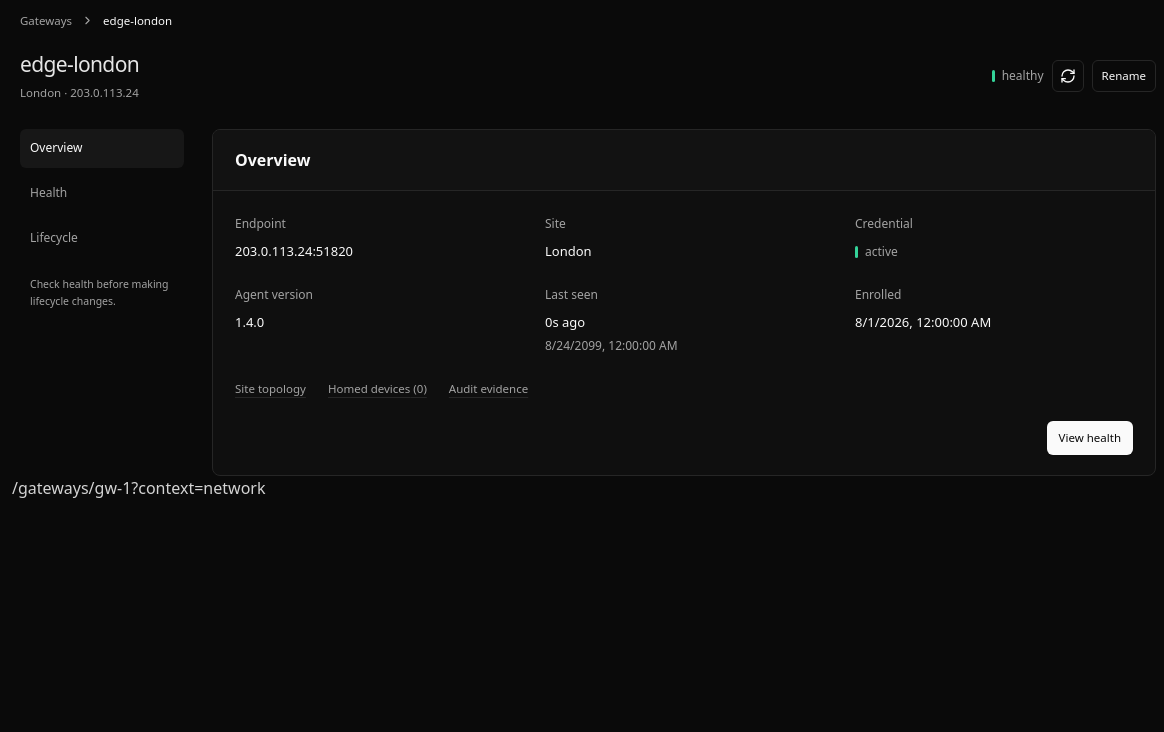
S20 Gateway detail lifecycle › keeps the gateway context while section navigation stays read-only
Expected: the heading "edge-london" is shown, [20,51,139,79]
Click the button "View health".
click(1090, 438)  # box [1047,421,1133,455]
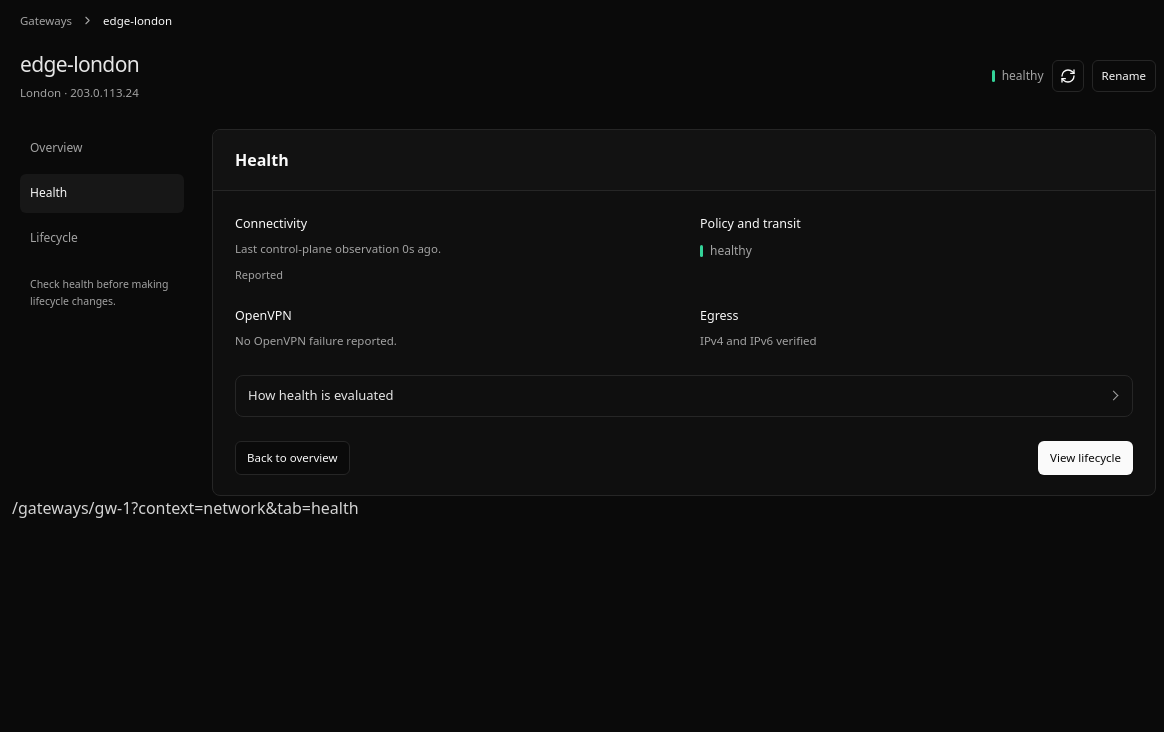
Expected: the text named "location" shows "context=network", [131,497,359,519]
Expected: the heading "Health" is shown, [235,148,289,172]
Expected: the text named "location" shows "tab=health", [131,497,359,519]
Click the button "View lifecycle".
click(1086, 458)  # box [1038,441,1133,475]
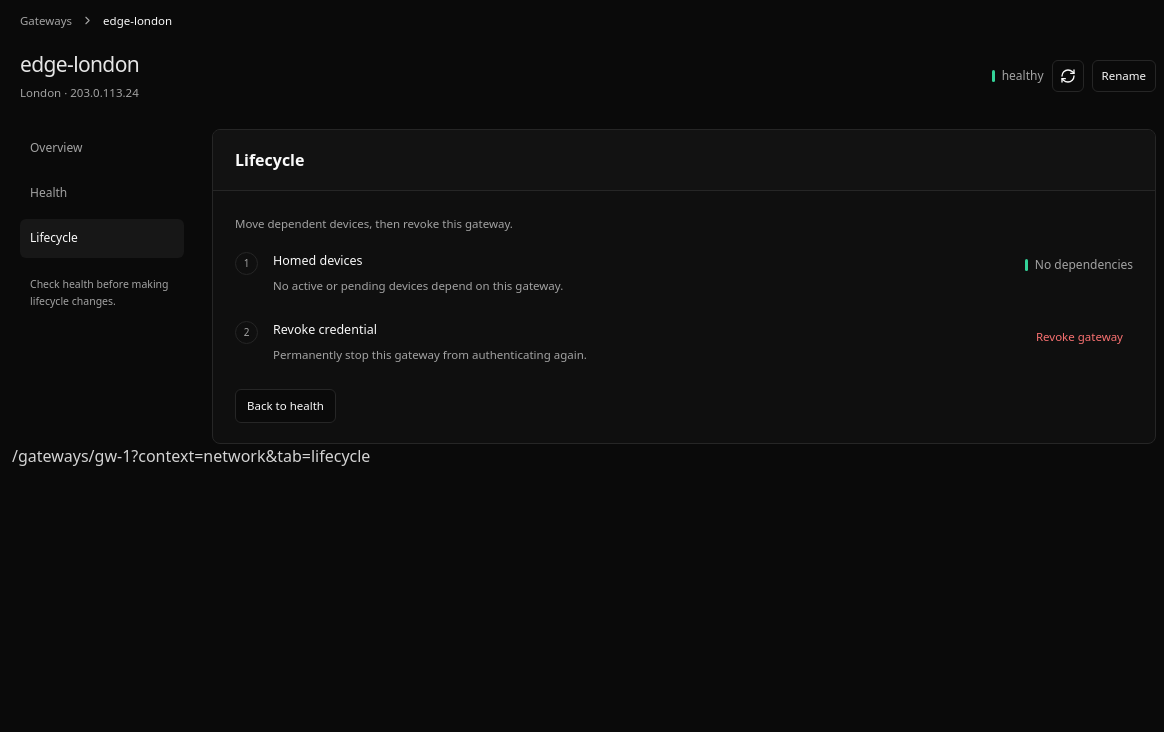
Expected: the heading "Lifecycle" is shown, [235,148,304,172]
Expected: the text named "location" shows "tab=lifecycle", [131,445,370,467]
Click the button "Back to health".
click(286, 406)  # box [235,389,336,423]
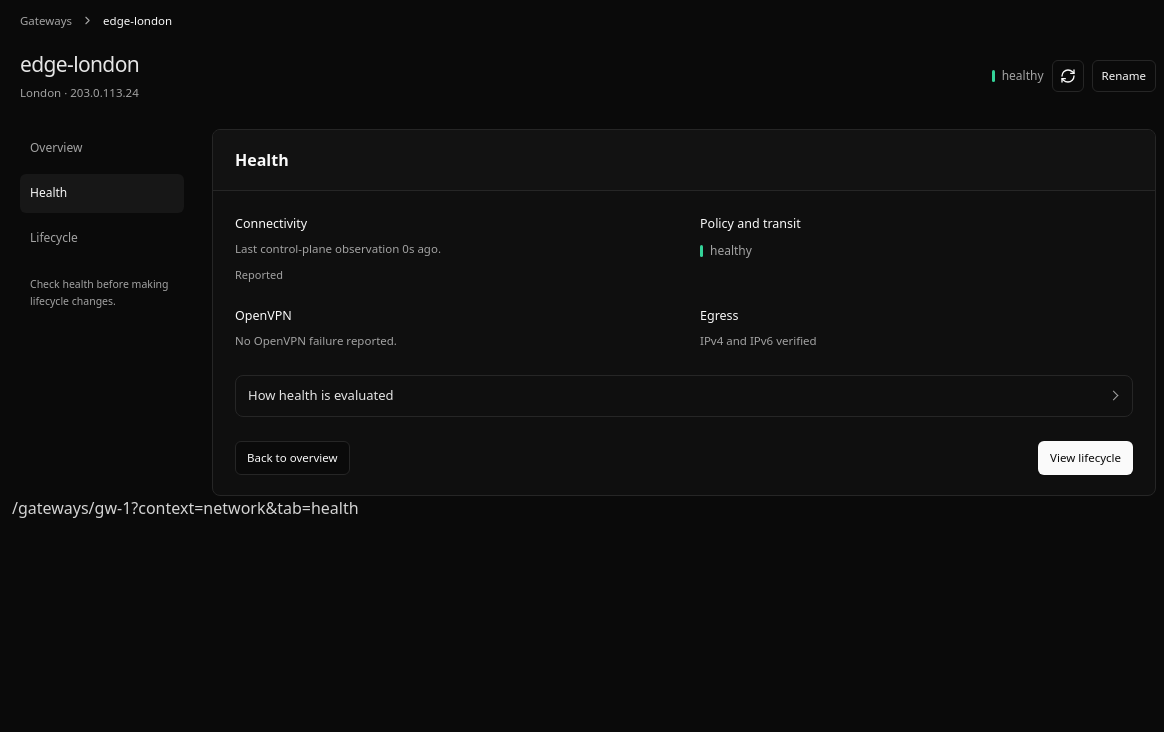
Click the button "Back to overview".
click(292, 458)  # box [235,441,350,475]
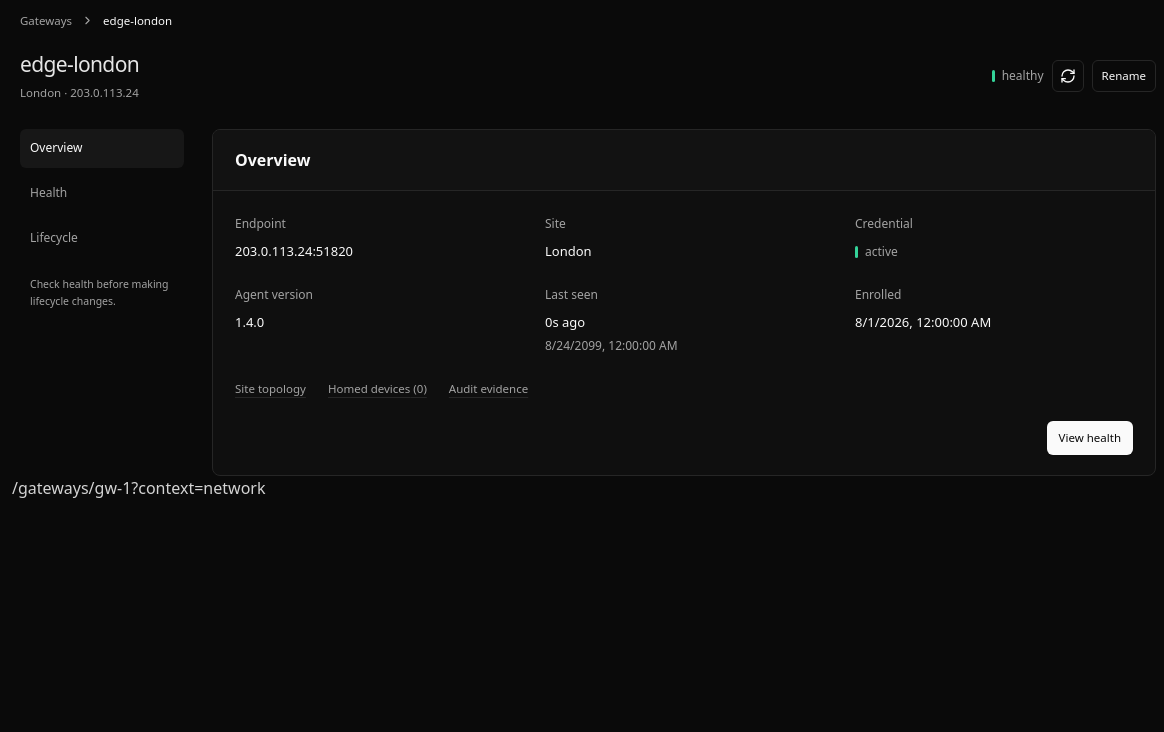
Expected: the text named "location" shows "context=network", [131,477,266,499]
Expected: the heading "Overview" is shown, [235,148,310,172]
Expected: the text labelled "location" no longer shows "tab="
